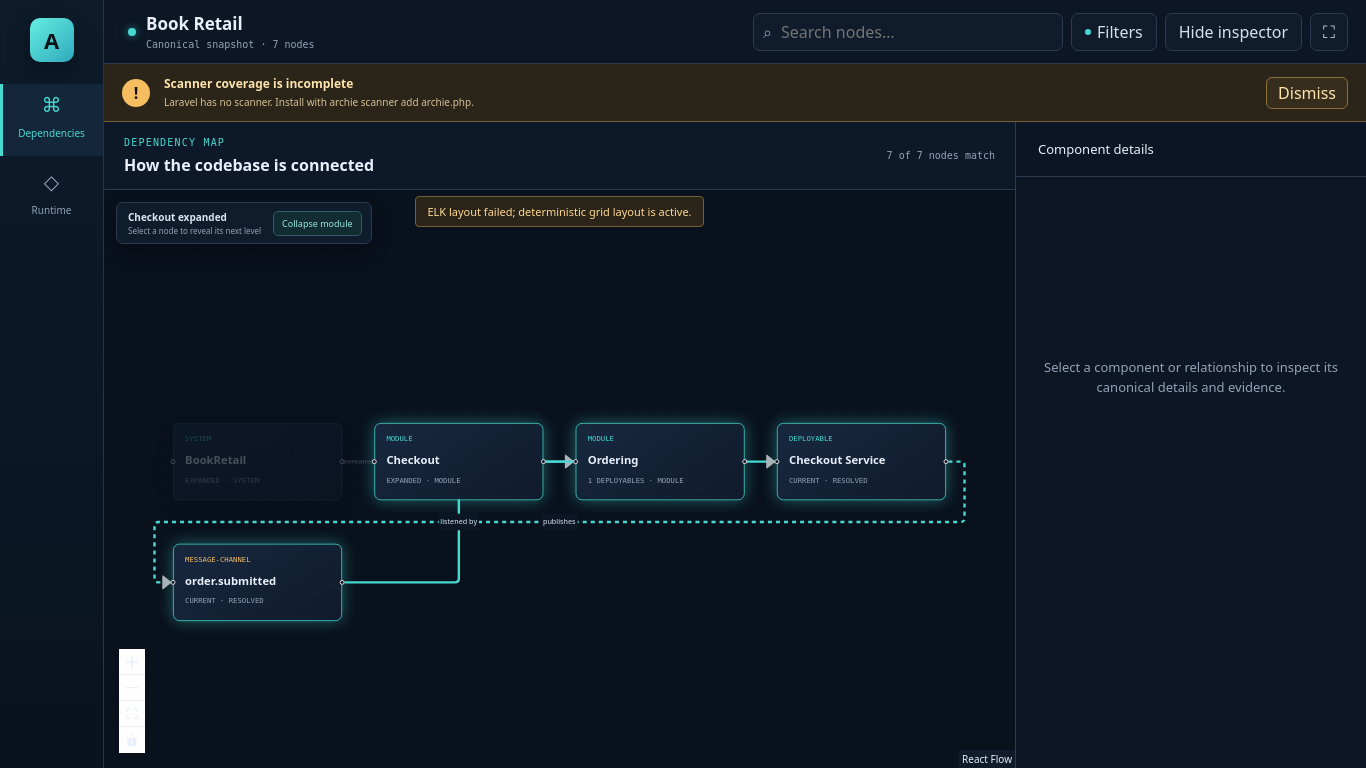
Scenario: App › shows and dismisses missing scanner coverage while keeping the map usable
The width and height of the screenshot is (1366, 768).
Expected: the message "Scanner coverage is incomplete" shows "archie scanner add archie.php", [164, 95, 474, 109]
Expected: the message "Scanner coverage is incomplete" does not show ".NET coverage is installed", [104, 64, 1365, 122]
Click the button "Dismiss": (1307, 92) [1266, 76, 1348, 108]
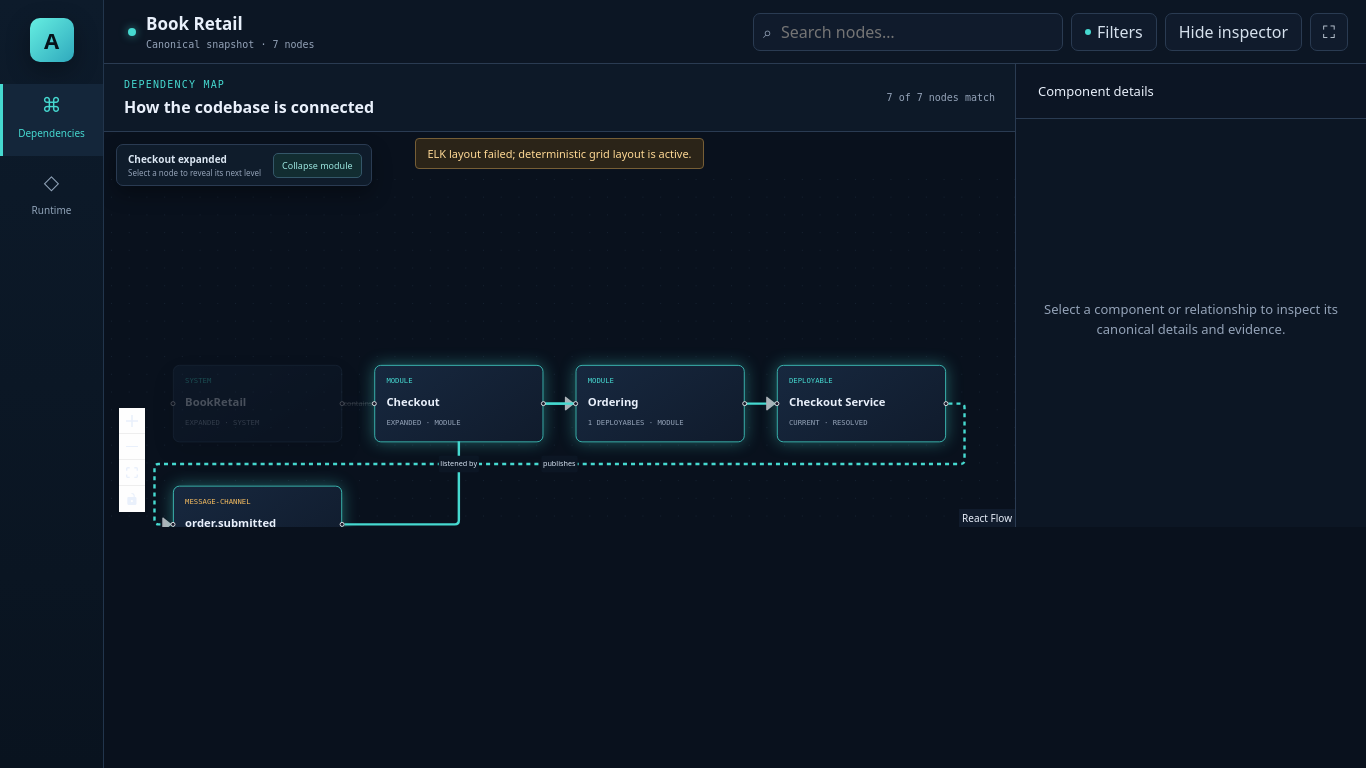
Expected: the element "Dependency map" is shown, [104, 64, 1016, 527]
Expected: the text "Scanner coverage is incomplete" is gone
